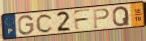2: (56, 10, 73, 33)
C: (35, 13, 54, 34)
F: (73, 8, 93, 32)
G: (17, 14, 35, 36)
P: (92, 8, 111, 30)
Q: (112, 5, 131, 28)
